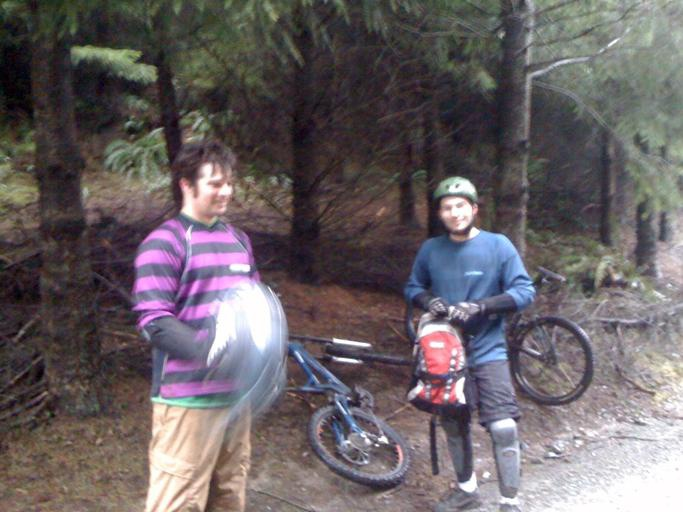non-vehicle: (401, 261, 594, 405), (278, 327, 415, 487)
